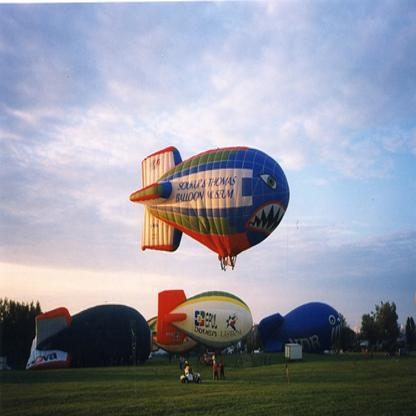Airship: (127, 142, 295, 274), (27, 299, 154, 373), (155, 285, 257, 352), (259, 294, 353, 361)
